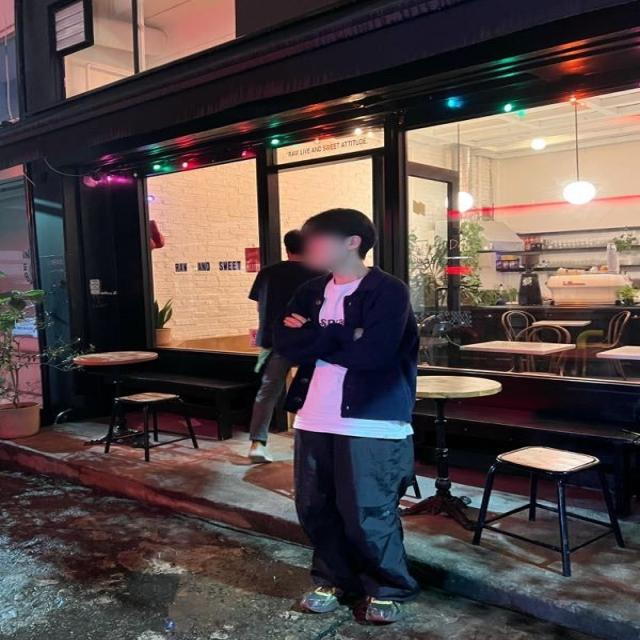cardigan: (264, 262, 419, 426)
cottonpants: (293, 410, 420, 605)
